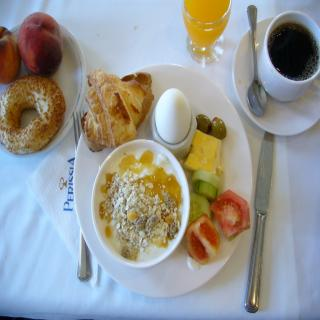Doughnut: (3, 66, 63, 156)
Egg: (154, 87, 192, 144)
